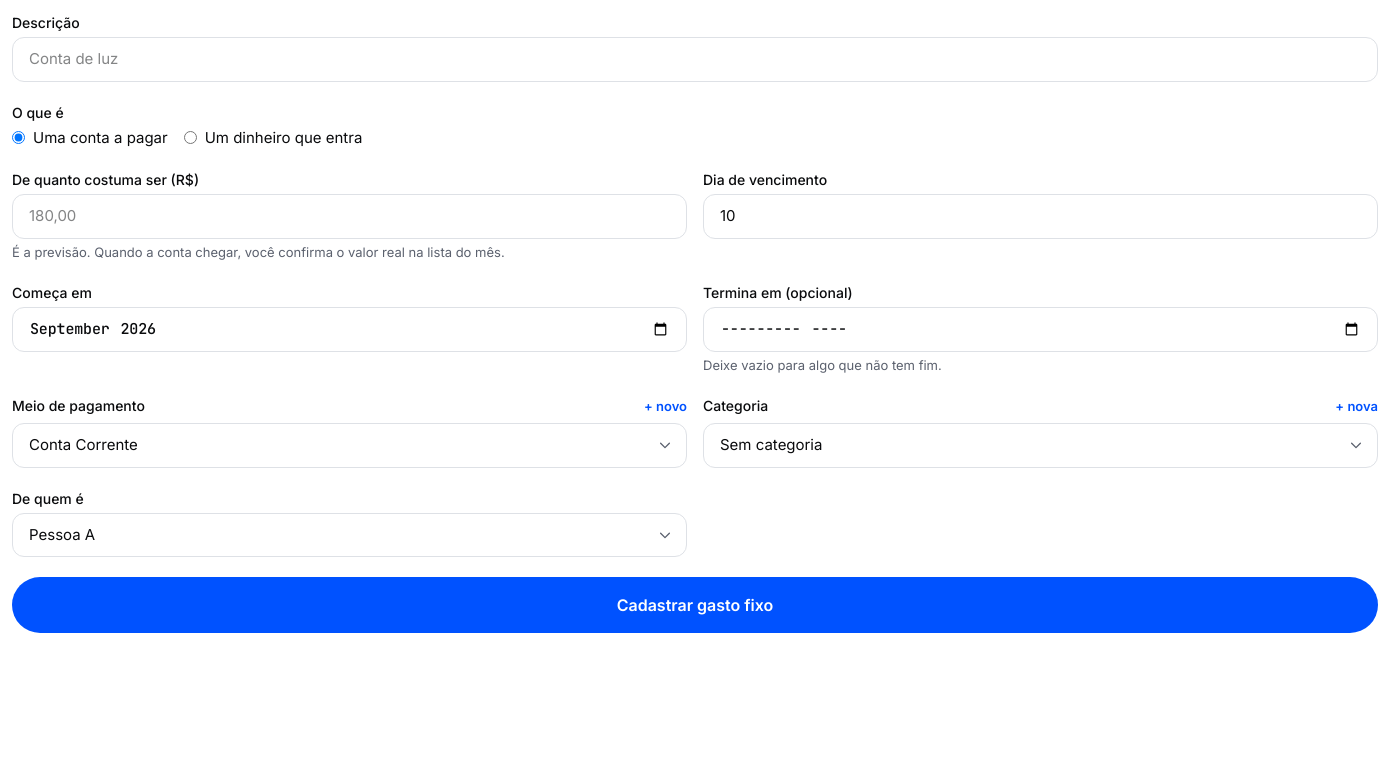
Test: FormRecorrencia — a língua da receita (ENTR-03) › troca o botão de envio para entrada — AC 3
Expected: the button "Cadastrar gasto fixo" is shown, top-left (12, 577), bottom-right (1378, 633)
Click the radio button labelled "Um dinheiro que entra" at (190, 138), box top-left (184, 131), bottom-right (197, 144)
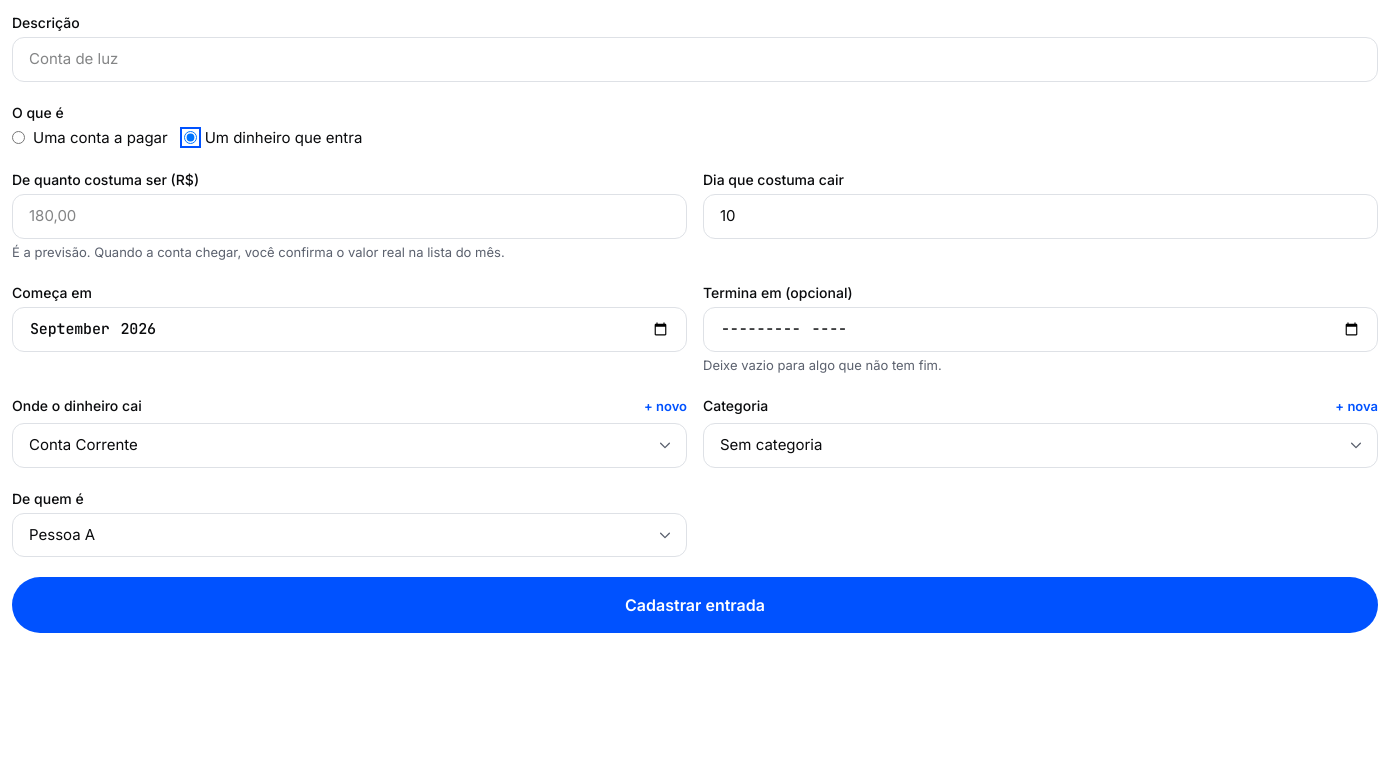
Result: the button "Cadastrar entrada" is shown at top-left (12, 577), bottom-right (1378, 633)
Result: the button "Cadastrar gasto fixo" is gone
